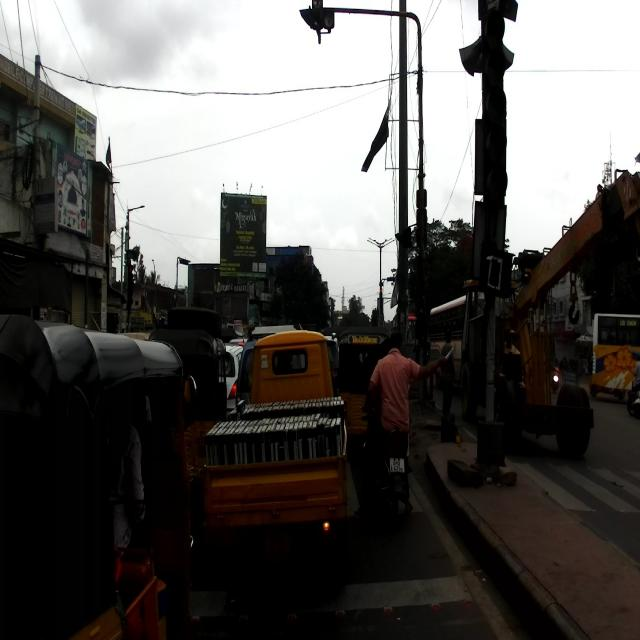autorickshaw: (0, 312, 200, 640), (30, 360, 182, 606), (149, 324, 232, 552), (336, 324, 392, 456)
